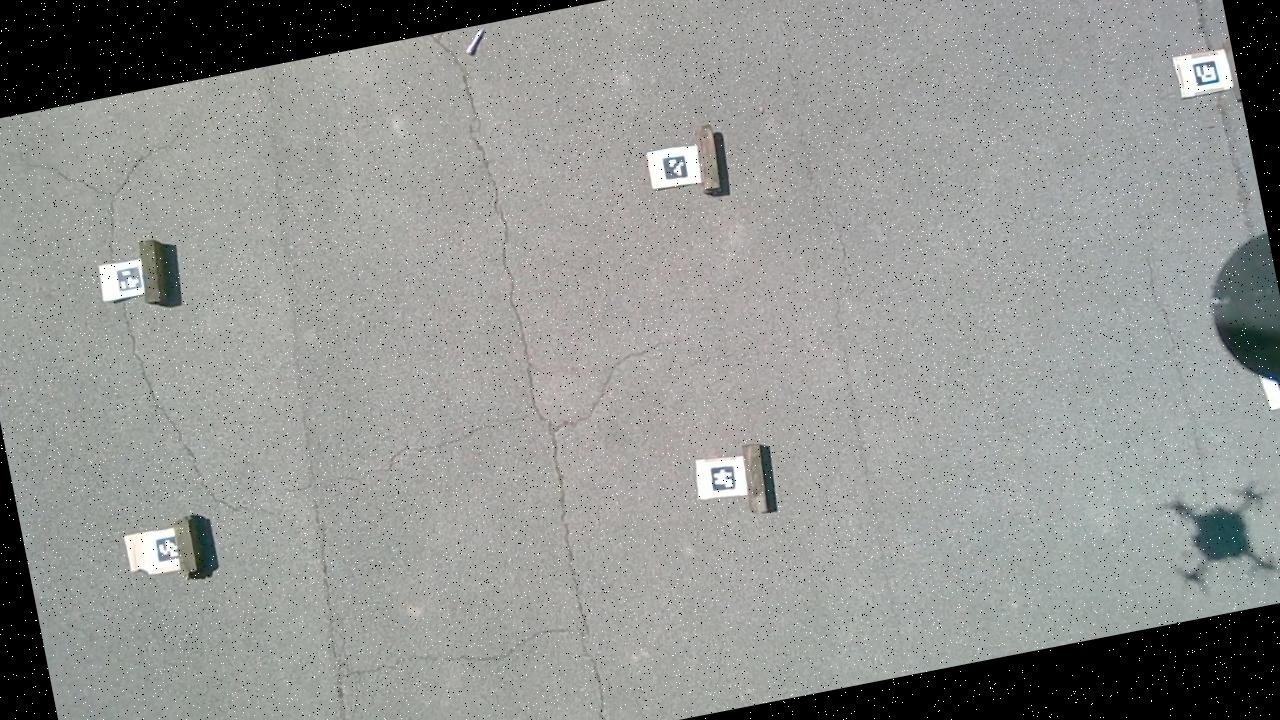probes: (462, 28, 488, 56)
